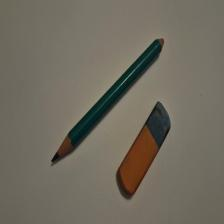eraser: (118, 101, 172, 196)
pencil: (52, 39, 165, 164)
